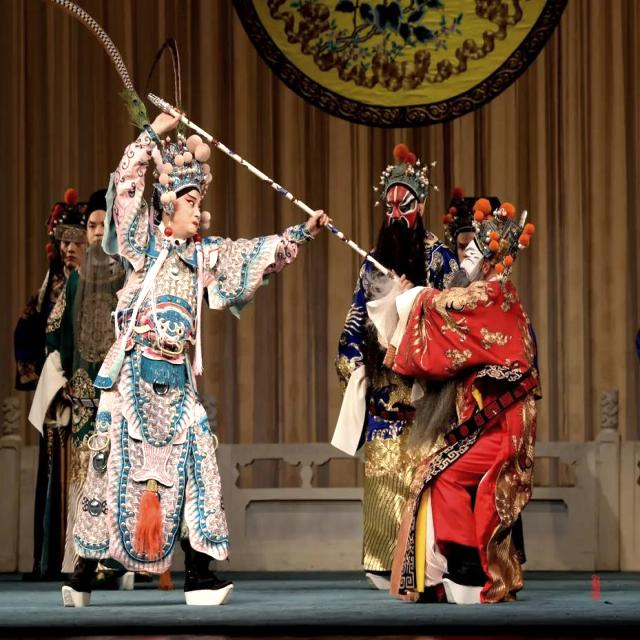Reeves-s Pheasant: (180, 114, 309, 214), (51, 0, 146, 118), (331, 221, 369, 258), (149, 93, 180, 114), (170, 47, 180, 99), (371, 260, 389, 278)
